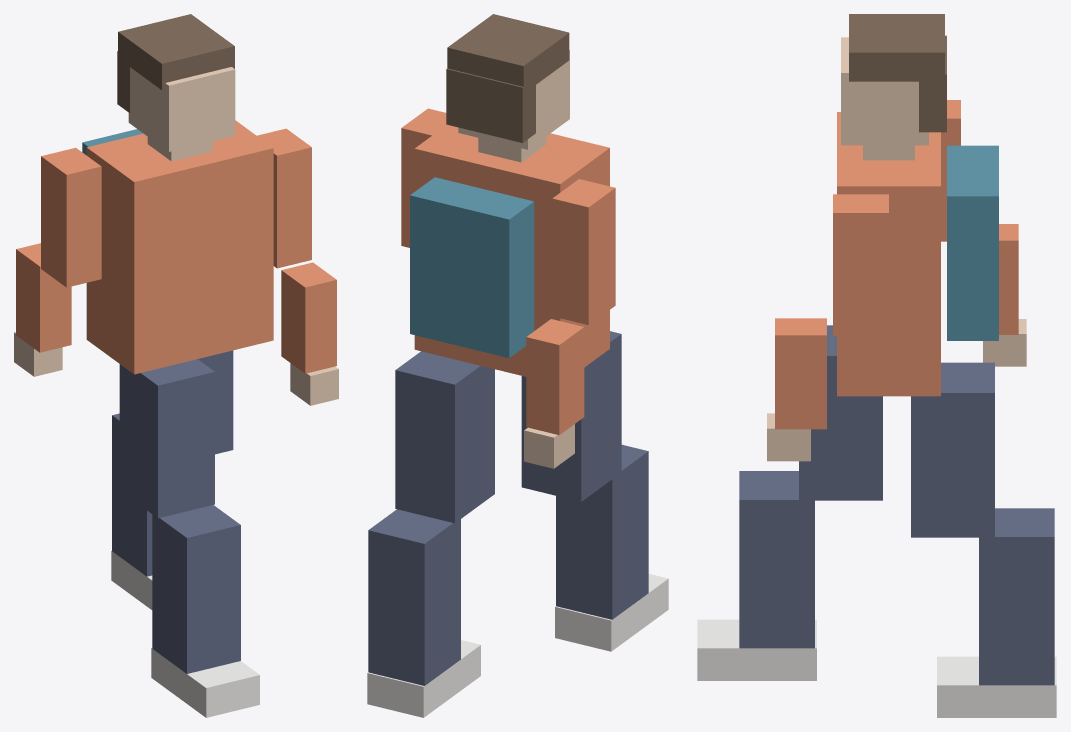
File: walker-3.glb
3 views of the same model, side by side, from view 1: azimuth 30°, elevation 25°; view 2: azimuth 150°, elevation 25°; view 3: azimuth 270°, elevation 25° (orthographic). The views are drawn at different scales.
Bounding box in the file's own units: 0.67 × 1.8 × 0.9.
